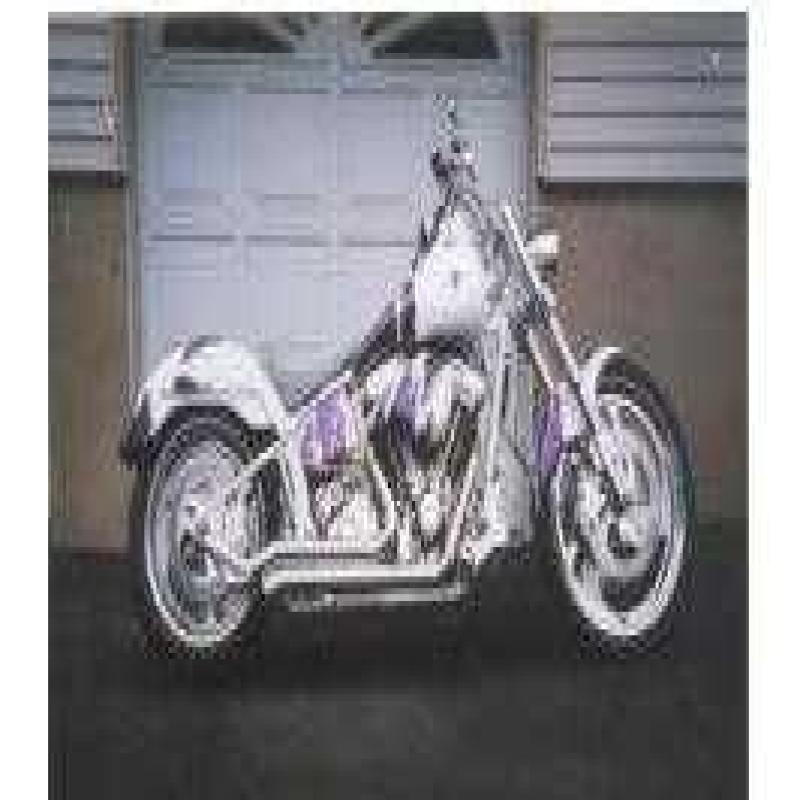bike: (126, 53, 745, 647)
